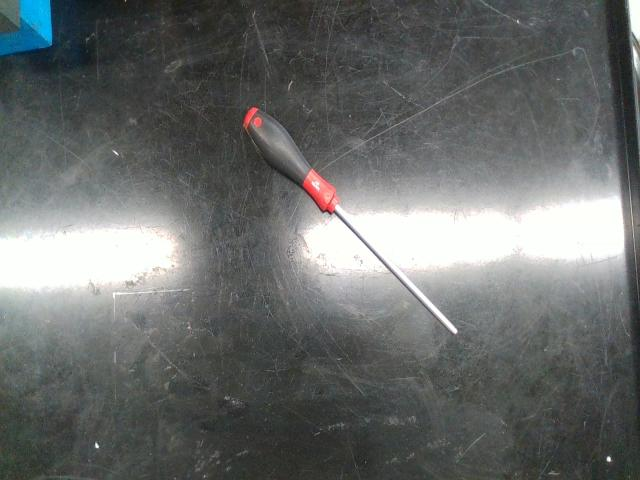Screwdriver: (244, 107, 458, 335)
